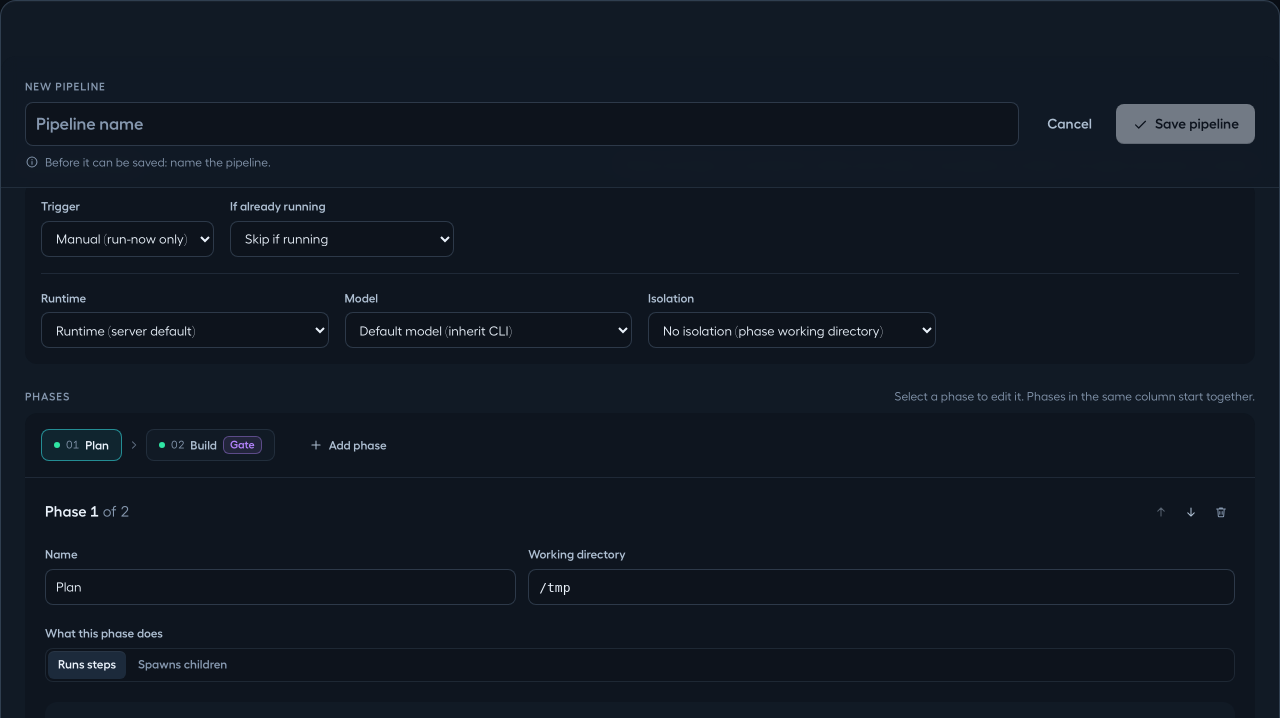
PipelineForm › renders only the selected phase's fields and switches focus via the rail
Expected: the field named "Phase 1 name" holds "Plan", [45, 569, 516, 605]
Click the button with aria-label "Phase 2: Build". click: {"x": 210, "y": 445}
box: [146, 429, 275, 461]
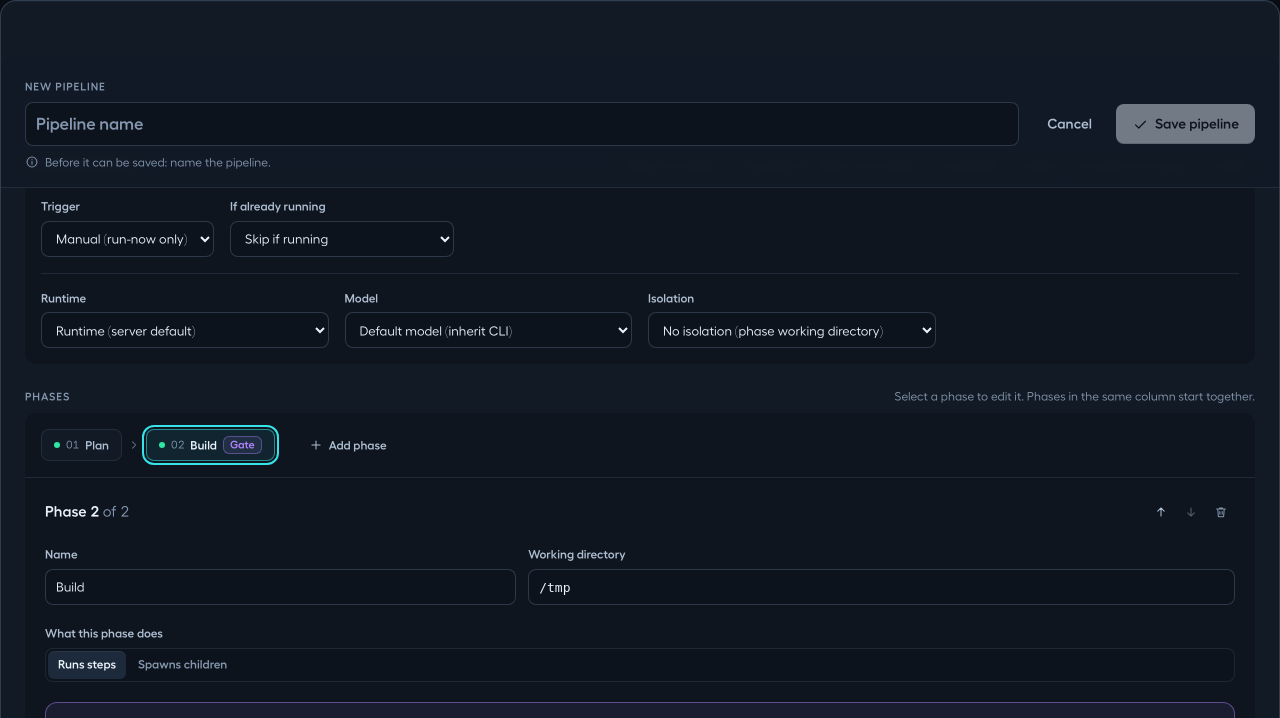
Expected: the field named "Phase 2 name" holds "Build", [45, 569, 516, 605]
